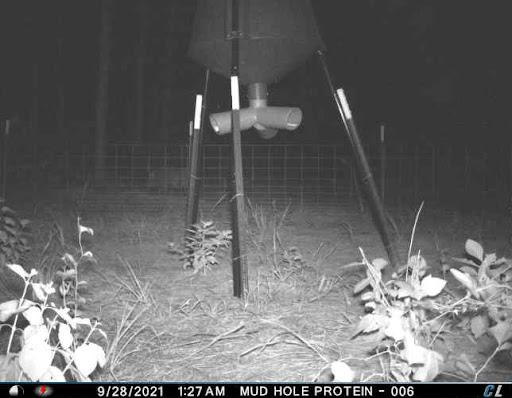Hog: (140, 150, 201, 204)
